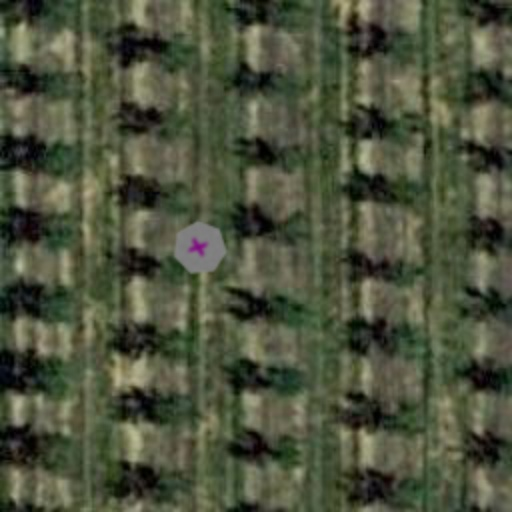heptagon: (164, 212, 236, 284)
